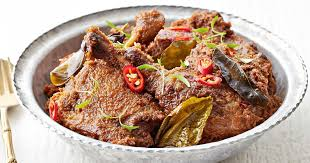rendang: (27, 7, 302, 155)
